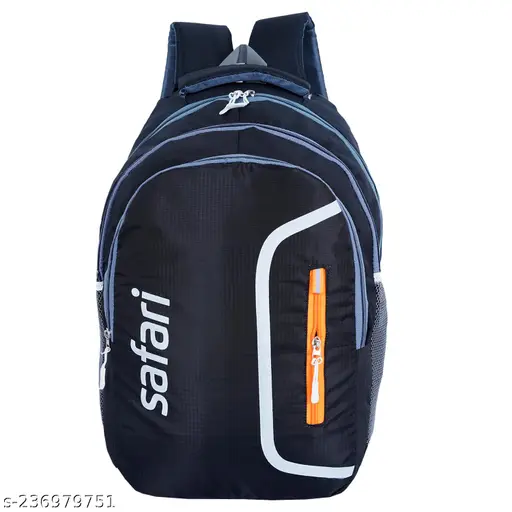backpack: (94, 11, 388, 500)
